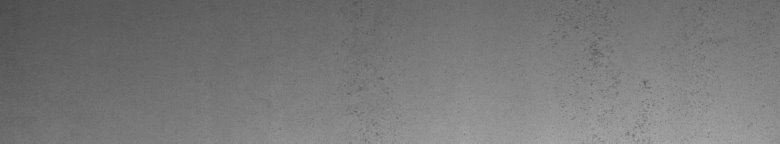ib: (557, 14, 655, 136)
